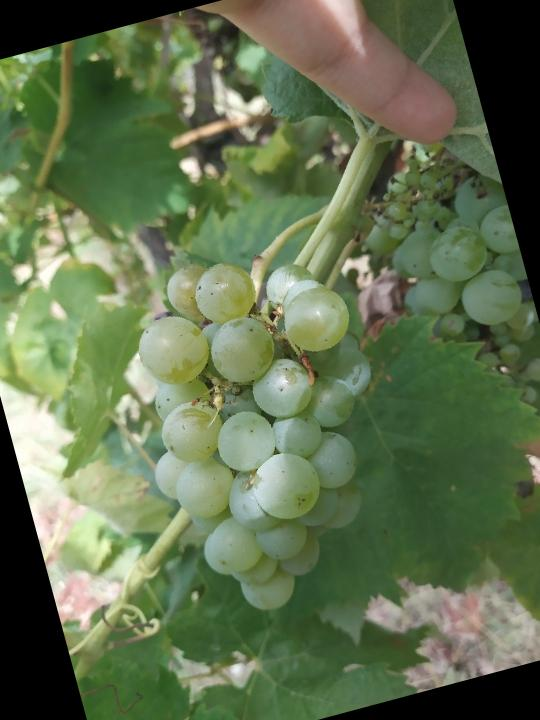grape: (101, 222, 430, 634)
